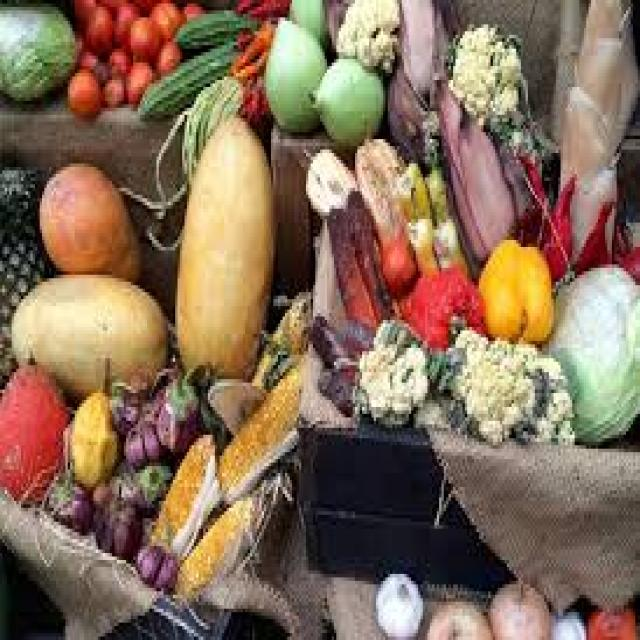organic waste: (173, 111, 264, 383), (556, 0, 638, 264), (7, 268, 166, 403), (544, 261, 638, 438), (435, 66, 509, 264), (38, 160, 140, 285), (217, 362, 304, 501), (430, 324, 528, 445), (350, 128, 418, 288), (0, 344, 65, 507), (474, 229, 554, 348), (444, 21, 526, 136), (0, 164, 42, 386), (350, 316, 432, 424), (133, 38, 241, 118), (152, 428, 217, 560), (177, 490, 250, 602), (61, 351, 119, 487), (343, 177, 395, 327), (397, 257, 486, 341), (325, 198, 376, 341), (0, 0, 72, 101), (306, 52, 383, 143), (264, 10, 322, 129), (182, 70, 243, 178), (306, 313, 371, 414), (514, 338, 574, 446), (252, 288, 306, 396), (381, 59, 434, 167), (397, 0, 451, 101), (502, 111, 551, 202), (537, 174, 577, 282), (334, 0, 399, 66), (154, 365, 199, 452), (42, 463, 93, 539), (154, 104, 185, 223), (488, 574, 547, 636), (371, 567, 423, 636), (301, 146, 353, 209), (172, 10, 255, 49), (89, 491, 138, 556), (117, 400, 163, 463), (572, 198, 612, 268), (206, 376, 259, 428), (425, 595, 486, 636), (430, 212, 467, 271), (514, 153, 546, 219), (402, 209, 437, 268), (133, 539, 175, 588), (133, 459, 173, 508), (290, 0, 327, 52), (231, 21, 271, 69), (586, 598, 633, 637), (66, 66, 100, 118), (420, 160, 451, 216), (395, 150, 423, 212), (119, 177, 185, 202), (80, 4, 108, 56), (150, 0, 184, 42), (240, 73, 268, 122), (129, 14, 161, 56), (110, 0, 140, 42), (110, 390, 138, 434), (549, 602, 584, 636), (142, 216, 180, 247), (126, 59, 152, 101), (238, 0, 288, 21), (616, 240, 638, 285), (75, 45, 103, 80), (514, 209, 537, 247), (103, 42, 128, 76), (103, 73, 126, 101), (152, 42, 173, 70), (70, 0, 98, 21), (179, 0, 203, 17), (128, 0, 152, 14)
